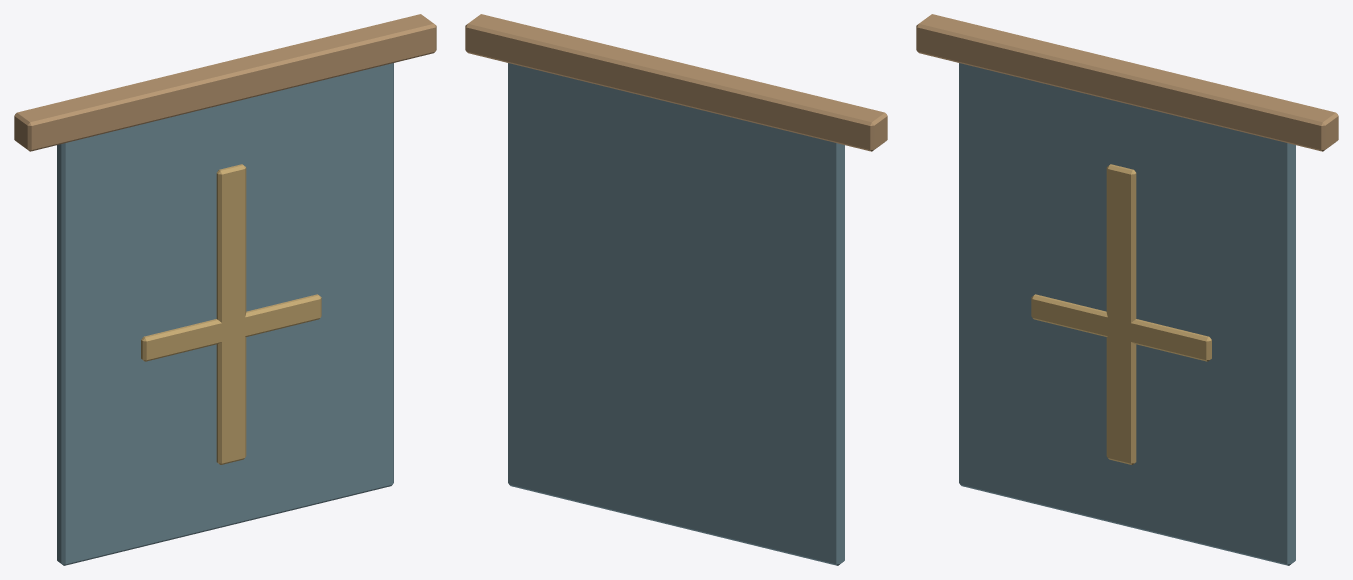
Rendered from banner.glb.
3 views of the same model, side by side, from view 1: azimuth 30°, elevation 25°; view 2: azimuth 150°, elevation 25°; view 3: azimuth 330°, elevation 25° (orthographic).
Parts seen in each view (by area): view 1: TV_banner; view 2: TV_banner; view 3: TV_banner.
Boxes of the visible parts, x1,y1,x2,y2 form: TV_banner: (14,14,436,565); TV_banner: (465,14,887,565); TV_banner: (916,14,1338,565).
Size of the model in its own units: 1.6 by 1.71 by 0.11.
